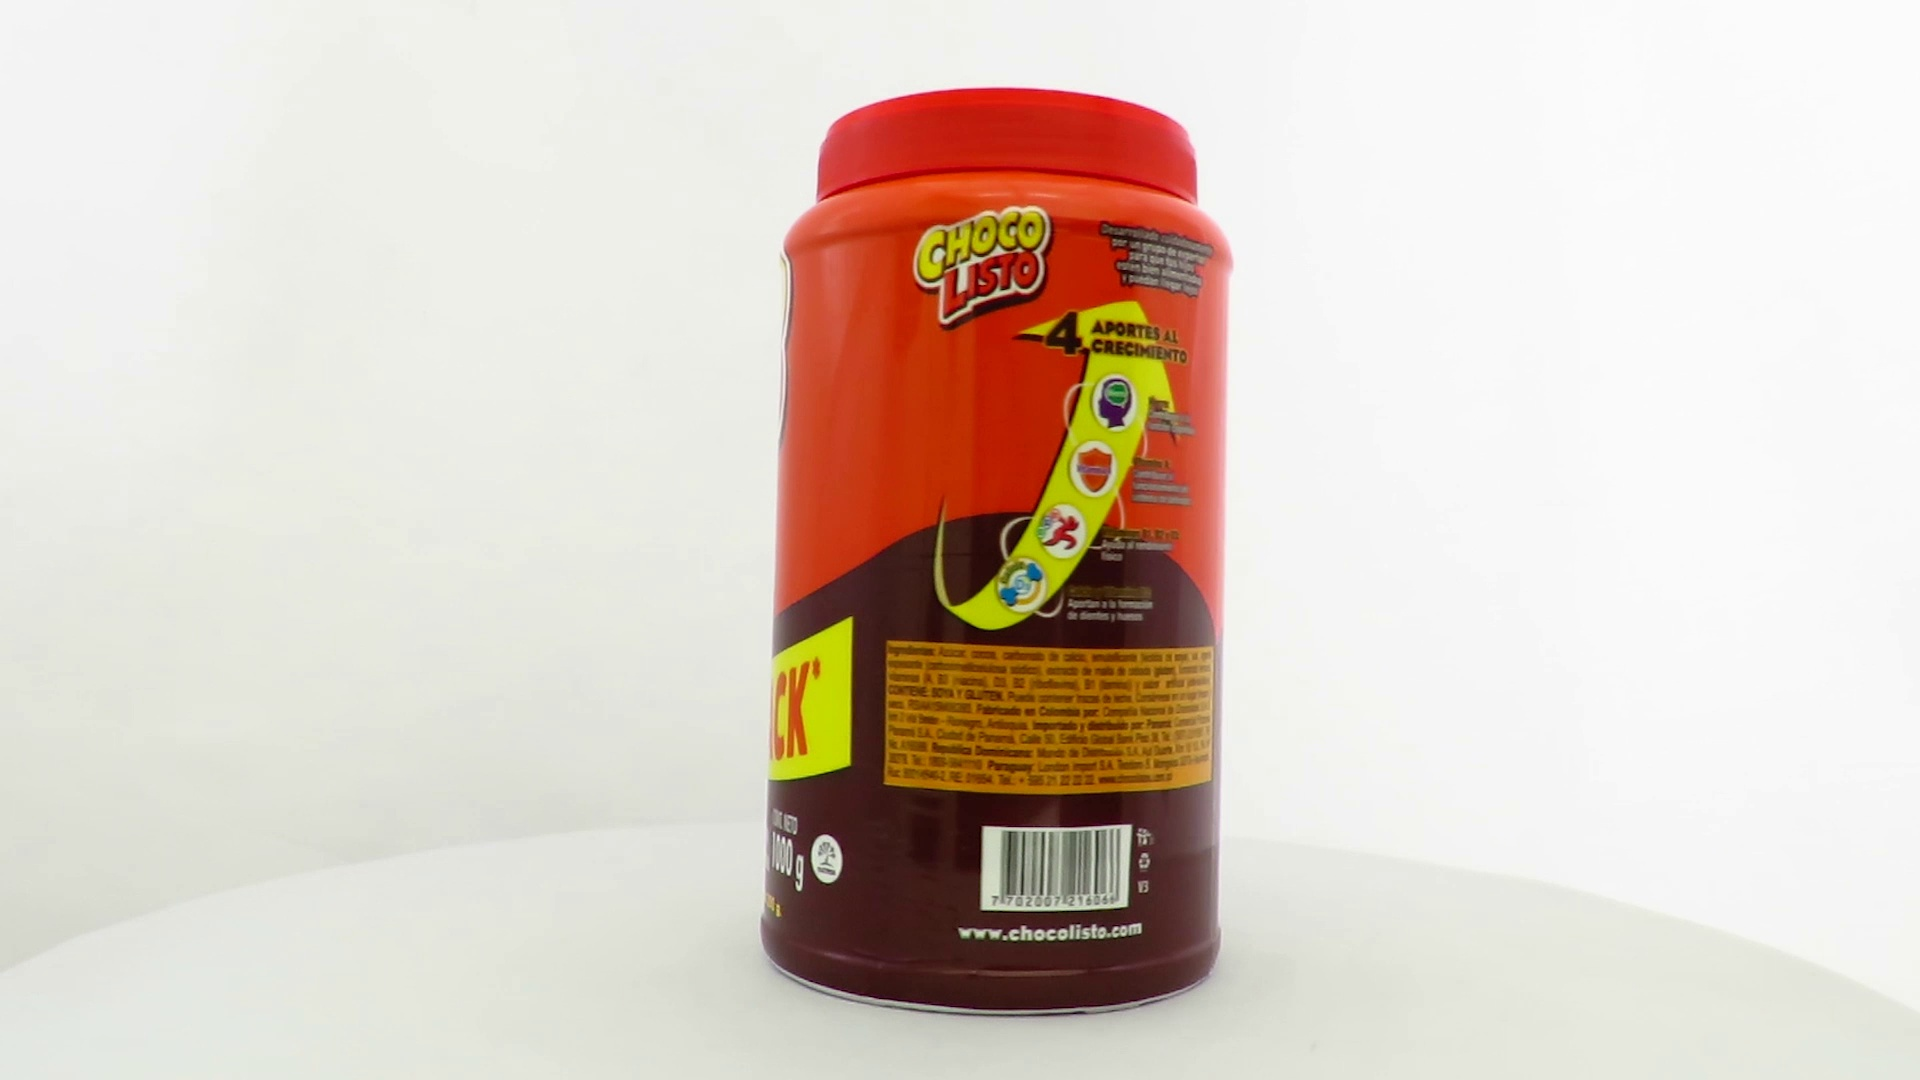COL0170103TRR00100: (756, 82, 1240, 1023)
